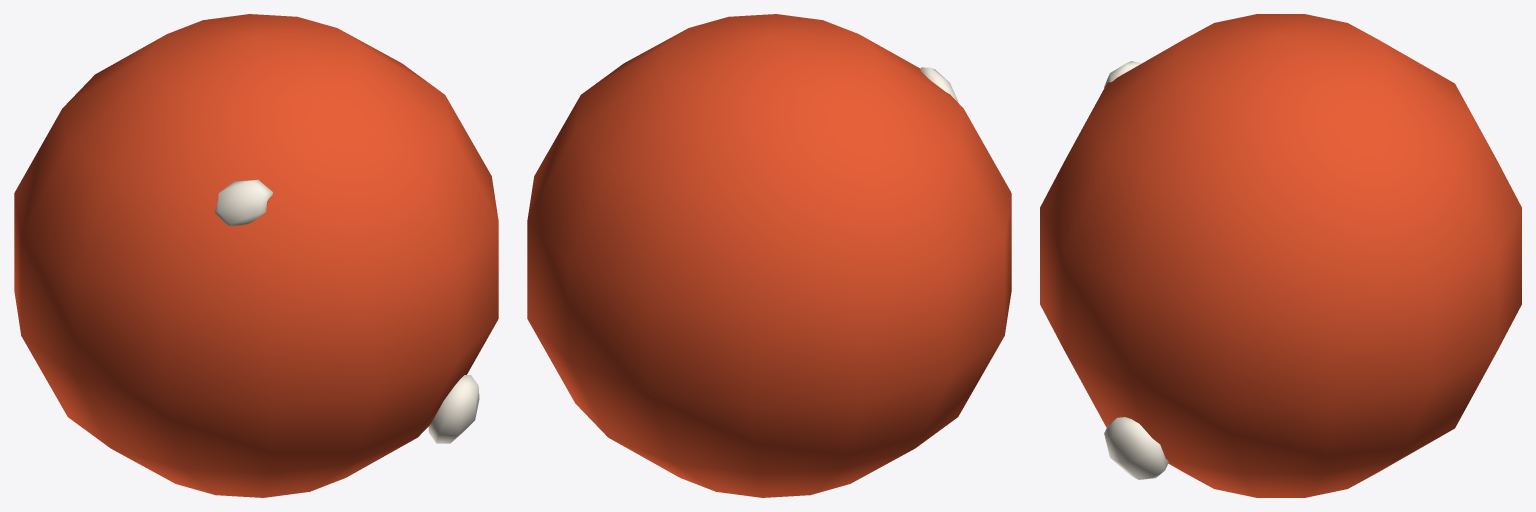
File: round1.glb
The picture shows the model from 3 angles, left to right: view 1: azimuth 30°, elevation 25°; view 2: azimuth 150°, elevation 25°; view 3: azimuth 270°, elevation 25°; orthographic projection.
Visible parts, largest first — view 1: shell, swirl-dot, glint; view 2: shell; view 3: shell, swirl-dot.
Part boxes in pixels (x1=…): shell: x1=14, y1=14, x2=498, y2=497; swirl-dot: x1=428, y1=375, x2=479, y2=443; glint: x1=215, y1=179, x2=272, y2=225; shell: x1=527, y1=14, x2=1011, y2=497; shell: x1=1040, y1=14, x2=1521, y2=497; swirl-dot: x1=1104, y1=417, x2=1168, y2=479.
Size of the model in its own units: 1 by 1 by 1.
